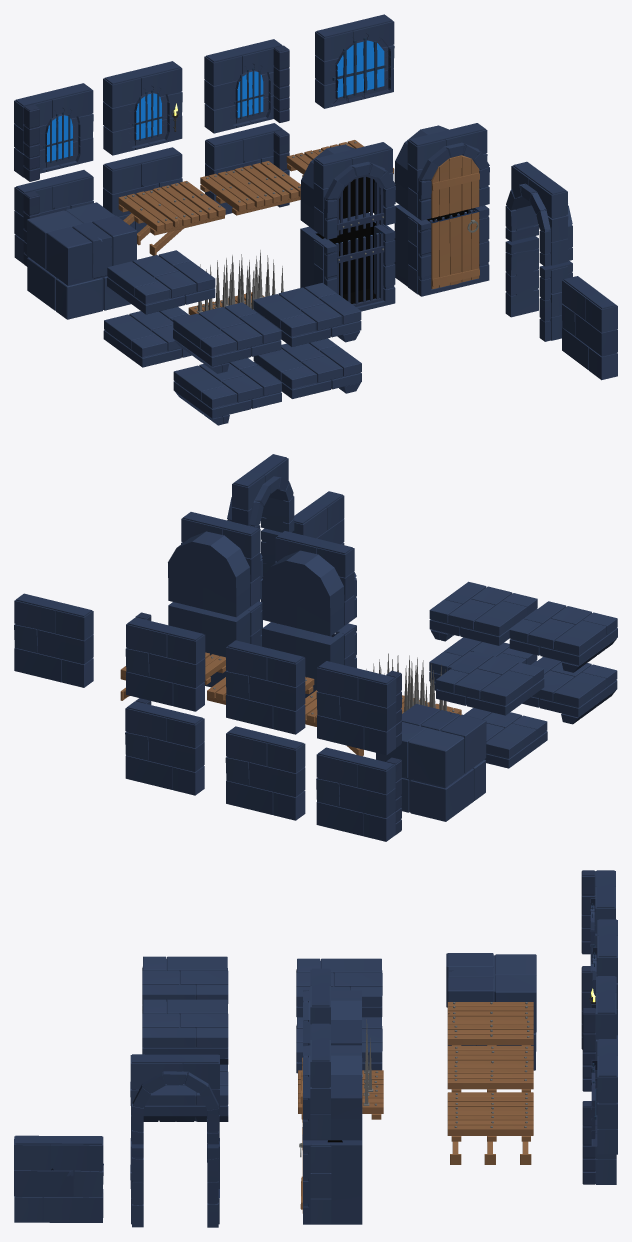
Rendered from blocks.gltf.
3 views of the same model, one above another, from view 1: azimuth 30°, elevation 25°; view 2: azimuth 150°, elevation 25°; view 3: azimuth 270°, elevation 25° (orthographic). The views are drawn at different scales.
Parts seen in each view (by area): view 1: brick floor, door upper half.001, door upper half, door bottom half.001, window wall3, door bottom half, window wall2, window wal 4, window wall, brick floor2.001, wall.002, brick floor2 (+13 smaller); view 2: brick floor, door upper half, door upper half.001, wall2, window wall2, window wall3, wall3, window wall, wall, window wal 4, brick floor2.001, brick floor2 (+12 smaller); view 3: wall.003, door upper half.001, door bottom half.001, brick floor2.002, wall.002, brick floor, wood floor3, wood floor2, brick floor2.001, wood floor, door upper half, brick floor2 (+10 smaller).
Part boxes in pixels (left/top/right/bottom): brick floor: left=27, top=202, right=136, bottom=319; door upper half.001: left=394, top=123, right=489, bottom=220; door upper half: left=300, top=142, right=395, bottom=239; door bottom half.001: left=394, top=204, right=489, bottom=296; window wall3: left=204, top=39, right=289, bottom=133; door bottom half: left=300, top=212, right=395, bottom=311; window wall2: left=14, top=83, right=93, bottom=181; window wal 4: left=315, top=14, right=394, bottom=108; window wall: left=103, top=61, right=182, bottom=155; brick floor2.001: left=173, top=302, right=281, bottom=373; wall.002: left=505, top=161, right=572, bottom=266; brick floor2: left=107, top=250, right=215, bottom=314; brick floor: left=376, top=703, right=486, bottom=821; door upper half: left=261, top=531, right=356, bottom=636; door upper half.001: left=168, top=512, right=263, bottom=617; wall2: left=316, top=747, right=401, bottom=841; window wall2: left=316, top=661, right=401, bottom=755; window wall3: left=125, top=612, right=205, bottom=711; wall3: left=125, top=698, right=204, bottom=795; window wall: left=225, top=640, right=305, bottom=734; wall: left=225, top=726, right=305, bottom=820; window wal 4: left=14, top=593, right=93, bottom=687; brick floor2.001: left=509, top=601, right=617, bottom=672; brick floor2: left=436, top=651, right=544, bottom=715; wall.003: left=14, top=1135, right=103, bottom=1222; door upper half.001: left=300, top=1023, right=361, bottom=1140; door bottom half.001: left=299, top=1109, right=362, bottom=1224; brick floor2.002: left=142, top=999, right=228, bottom=1064; wall.002: left=130, top=1054, right=219, bottom=1144; brick floor: left=446, top=953, right=536, bottom=1070; wood floor3: left=447, top=1092, right=533, bottom=1164; wood floor2: left=447, top=1046, right=533, bottom=1092; brick floor2.001: left=142, top=956, right=228, bottom=1010; wood floor: left=447, top=1002, right=533, bottom=1045; door upper half: left=303, top=968, right=361, bottom=1045; brick floor2: left=296, top=958, right=382, bottom=1017.
Size of the model in its own units: 11.75 by 4.73 by 14.08.
10 materials, 3 textured.
